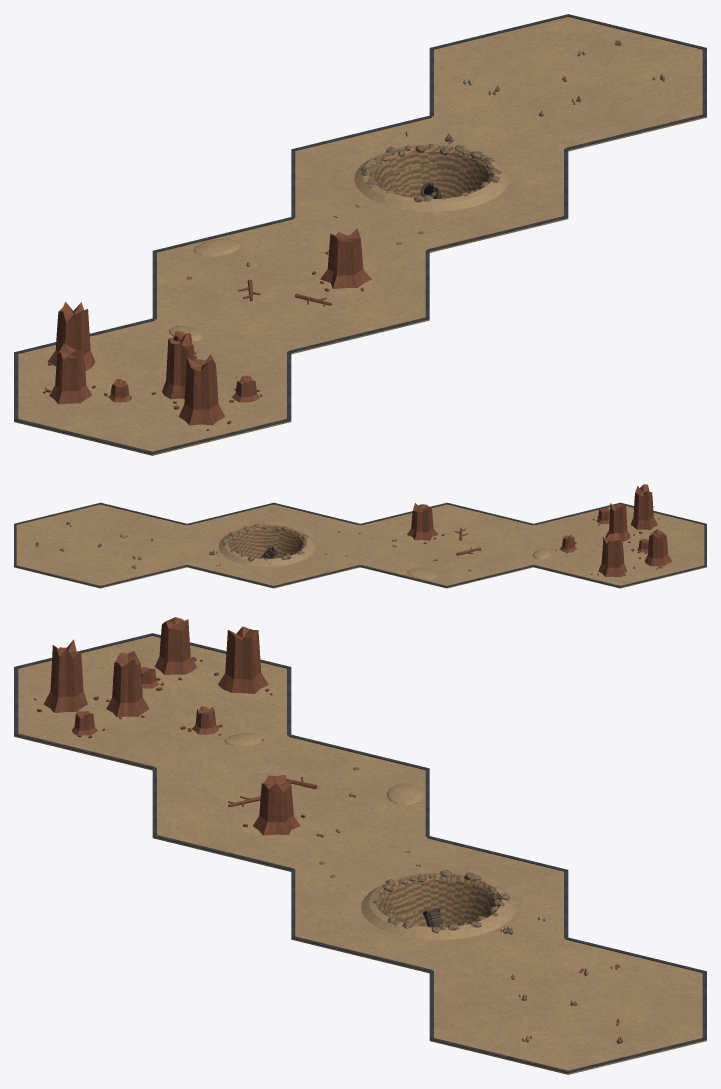
File: WasteHex_Bar.glb
3 views of the same model, one above another, from view 1: azimuth 30°, elevation 25°; view 2: azimuth 150°, elevation 25°; view 3: azimuth 270°, elevation 25° (orthographic). The views are drawn at different scales.
Visible parts, largest first — view 1: WasteHex_Bar_Ground, WasteHex_Bar_Prop_Petrified, WasteHex_Bar_GroundTrim, WasteHex_Bar_Prop_PitWall, WasteHex_Bar_Prop_PitRim, WasteHex_Bar_Prop_Rock, WasteHex_Bar_Prop_Drift; view 2: WasteHex_Bar_Ground, WasteHex_Bar_Prop_Petrified, WasteHex_Bar_GroundTrim, WasteHex_Bar_Prop_PitWall, WasteHex_Bar_Prop_PitRim, WasteHex_Bar_Prop_Rock, WasteHex_Bar_Prop_Drift; view 3: WasteHex_Bar_Ground, WasteHex_Bar_Prop_Petrified, WasteHex_Bar_GroundTrim, WasteHex_Bar_Prop_PitWall, WasteHex_Bar_Prop_PitRim, WasteHex_Bar_Prop_Rock, WasteHex_Bar_Prop_Drift.
Part boxes in pixels (left/top/right/bottom): WasteHex_Bar_Ground: left=14, top=17, right=706, bottom=455; WasteHex_Bar_Prop_Petrified: left=43, top=228, right=371, bottom=430; WasteHex_Bar_GroundTrim: left=14, top=14, right=706, bottom=454; WasteHex_Bar_Prop_PitWall: left=369, top=145, right=494, bottom=198; WasteHex_Bar_Prop_PitRim: left=354, top=144, right=508, bottom=211; WasteHex_Bar_Prop_Rock: left=361, top=143, right=501, bottom=202; WasteHex_Bar_Prop_Drift: left=168, top=238, right=241, bottom=341; WasteHex_Bar_Ground: left=14, top=504, right=706, bottom=588; WasteHex_Bar_Prop_Petrified: left=407, top=484, right=672, bottom=577; WasteHex_Bar_GroundTrim: left=14, top=502, right=706, bottom=587; WasteHex_Bar_Prop_PitWall: left=227, top=525, right=306, bottom=558; WasteHex_Bar_Prop_PitRim: left=219, top=525, right=315, bottom=566; WasteHex_Bar_Prop_Rock: left=223, top=523, right=308, bottom=561; WasteHex_Bar_Prop_Drift: left=407, top=548, right=550, bottom=579; WasteHex_Bar_Ground: left=14, top=636, right=706, bottom=1074; WasteHex_Bar_Prop_Petrified: left=34, top=617, right=305, bottom=835; WasteHex_Bar_GroundTrim: left=14, top=633, right=706, bottom=1073; WasteHex_Bar_Prop_PitWall: left=375, top=874, right=501, bottom=926; WasteHex_Bar_Prop_PitRim: left=361, top=873, right=515, bottom=940; WasteHex_Bar_Prop_Rock: left=373, top=869, right=510, bottom=933; WasteHex_Bar_Prop_Drift: left=224, top=733, right=422, bottom=805.
Size of the model in its own units: 39 by 4.37 by 25.98.
12 materials, 12 textured.
